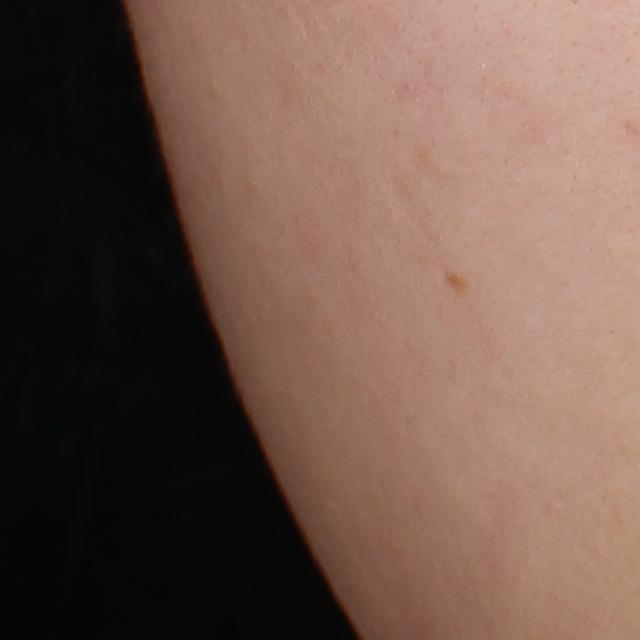nevus: (443, 268, 471, 296)
